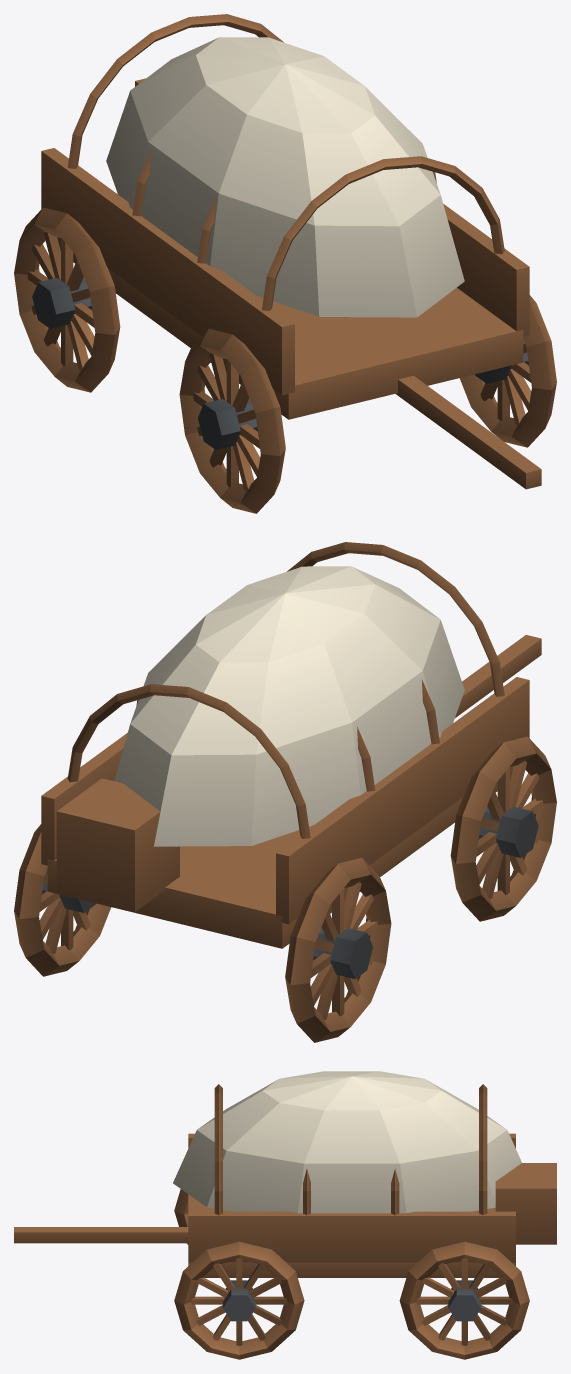
Rendered from caravan.glb.
3 views of the same model, one above another, from view 1: azimuth 30°, elevation 25°; view 2: azimuth 150°, elevation 25°; view 3: azimuth 270°, elevation 25° (orthographic). The views are drawn at different scales.
Visible parts, largest first — view 1: Wagon, Wheel_2, Wheel_0, Wheel_1; view 2: Wagon, Wheel_0, Wheel_2, Wheel_3; view 3: Wagon, Wheel_1, Wheel_3, Wheel_0.
Boxes of the visible parts, x1,y1,x2,y2 form: Wagon: [41, 14, 541, 489]; Wheel_2: [14, 207, 120, 392]; Wheel_0: [179, 328, 285, 513]; Wheel_1: [459, 295, 556, 447]; Wagon: [41, 542, 541, 948]; Wheel_0: [450, 736, 556, 921]; Wheel_2: [285, 858, 391, 1042]; Wheel_3: [14, 824, 111, 976]; Wagon: [14, 1071, 556, 1277]; Wheel_1: [174, 1241, 304, 1359]; Wheel_3: [399, 1241, 529, 1359]; Wheel_0: [174, 1189, 188, 1244].
Bounding box in the file's own units: 1.22 × 1.28 × 2.65.
1 material, 1 textured.
